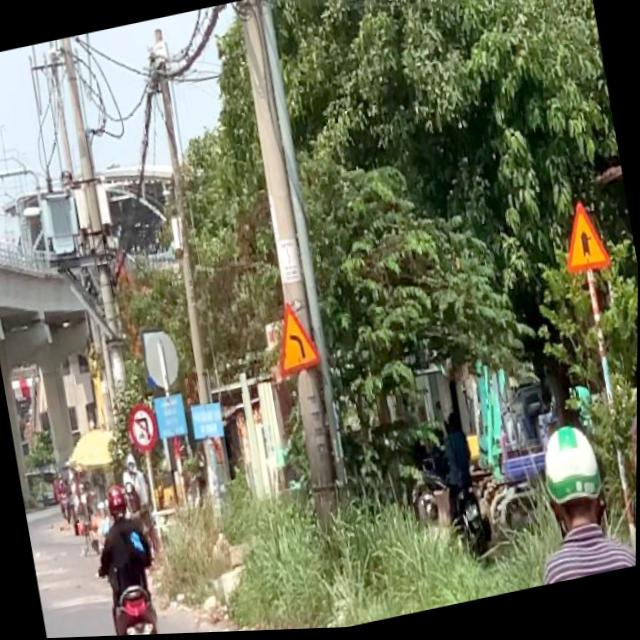Giao nhau voi duong khong uu tien ben phai: (556, 198, 614, 282)
cho ngoat nguy hiem vong ben trai: (268, 297, 325, 382)
